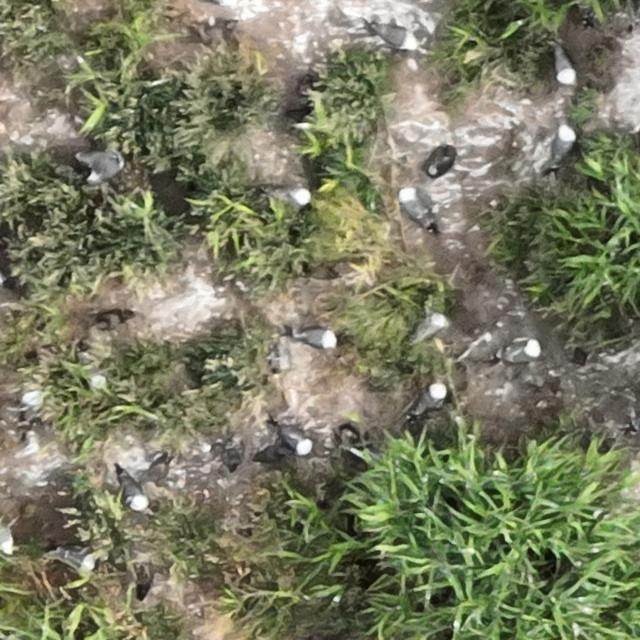umineko: (400, 186, 436, 229), (411, 315, 446, 347), (372, 25, 418, 46), (82, 155, 123, 178), (414, 384, 444, 413), (56, 547, 92, 569), (123, 476, 147, 509), (273, 186, 311, 206), (504, 339, 538, 361), (284, 430, 312, 454), (300, 329, 335, 348), (554, 49, 574, 82), (430, 150, 454, 176), (555, 123, 573, 157), (0, 527, 12, 554)
